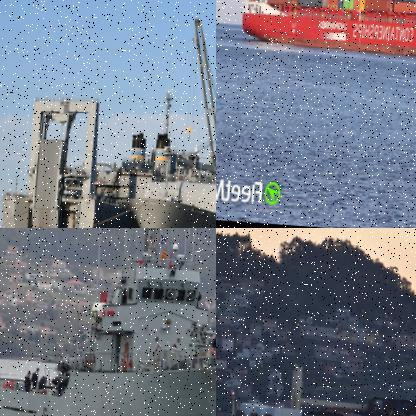Merchant Ship: (216, 333, 415, 415), (240, 0, 415, 73)
Military Ship: (0, 228, 215, 415), (0, 79, 215, 227), (121, 14, 215, 227)
